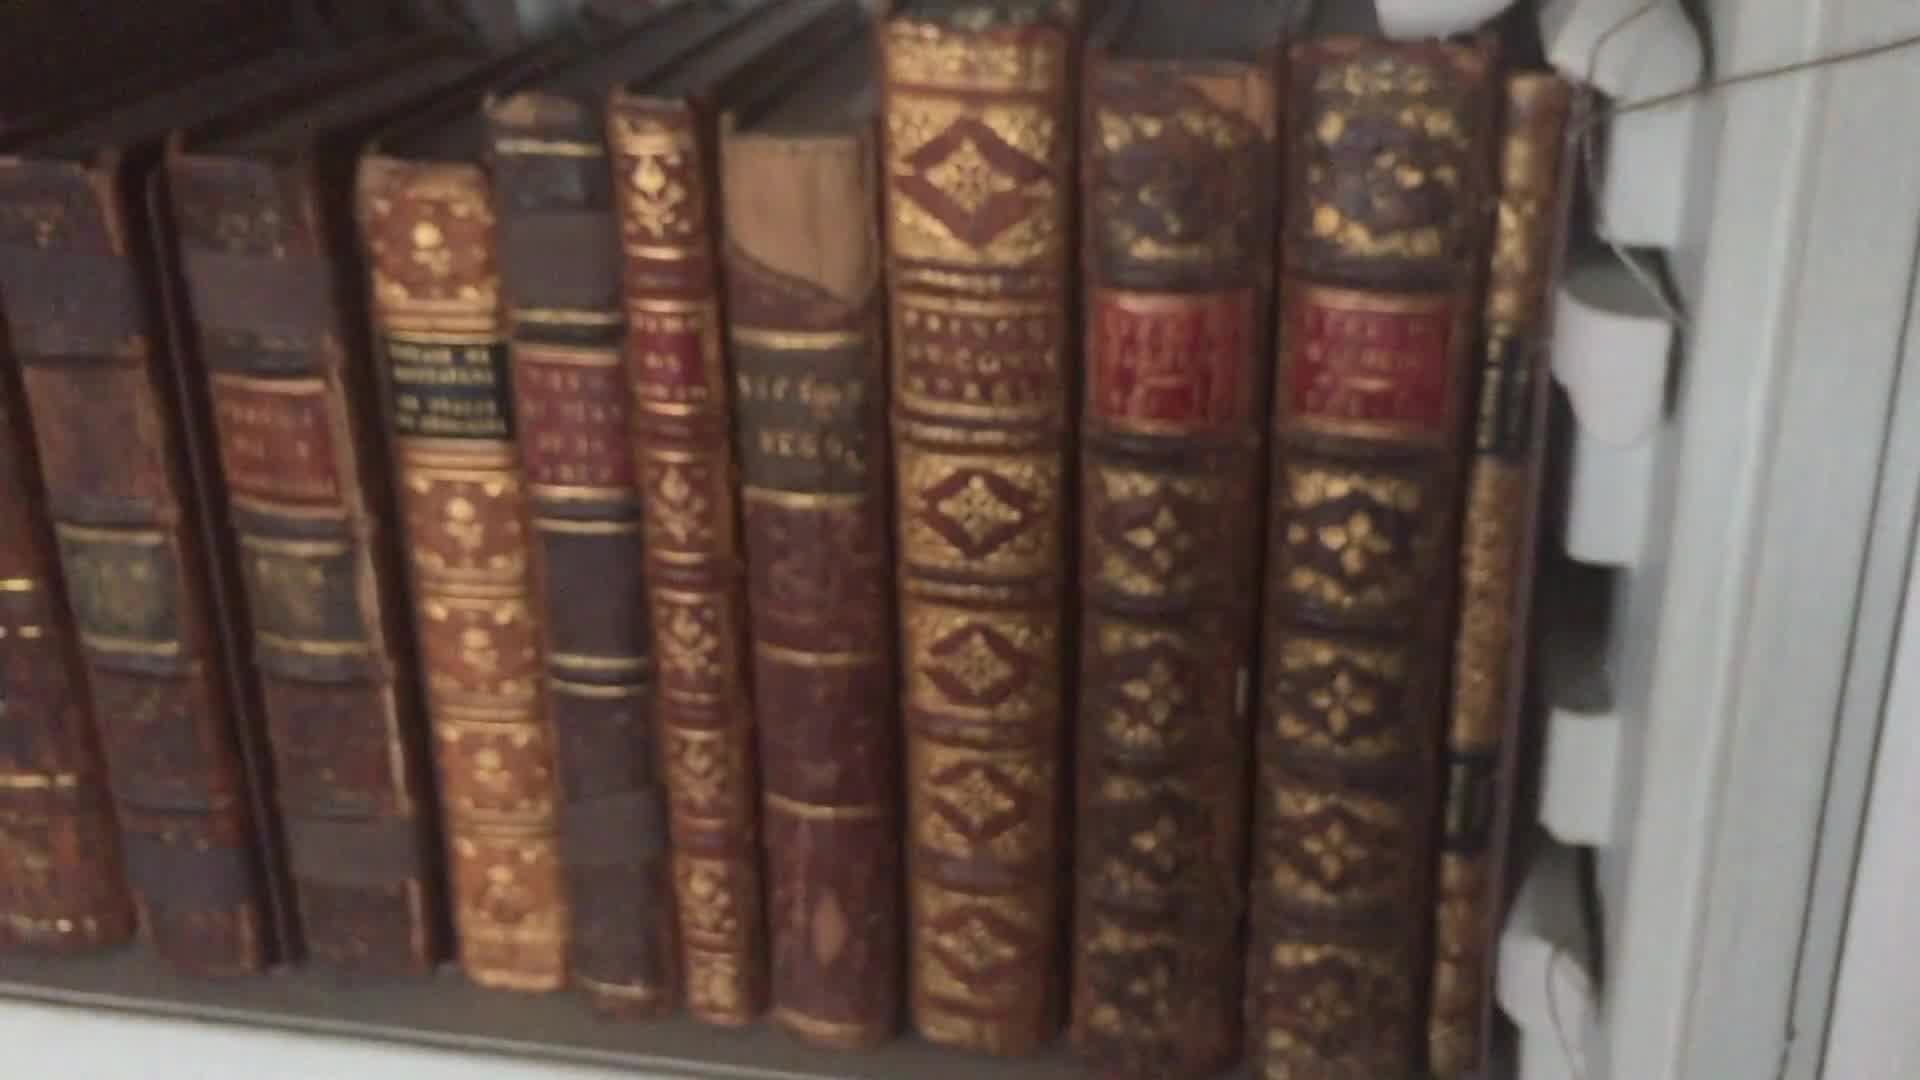Aa6-39_40: (7, 117, 431, 986)
Aa6-41: (343, 135, 568, 1014)
Aa6-42: (487, 90, 687, 1031)
Aa6-43: (607, 78, 758, 1051)
Aa6-44: (712, 119, 902, 1073)
Aa6-45: (876, 26, 1085, 1080)
Aa6-46-47: (1077, 47, 1453, 1075)
Aa6-48: (1429, 51, 1592, 1075)
